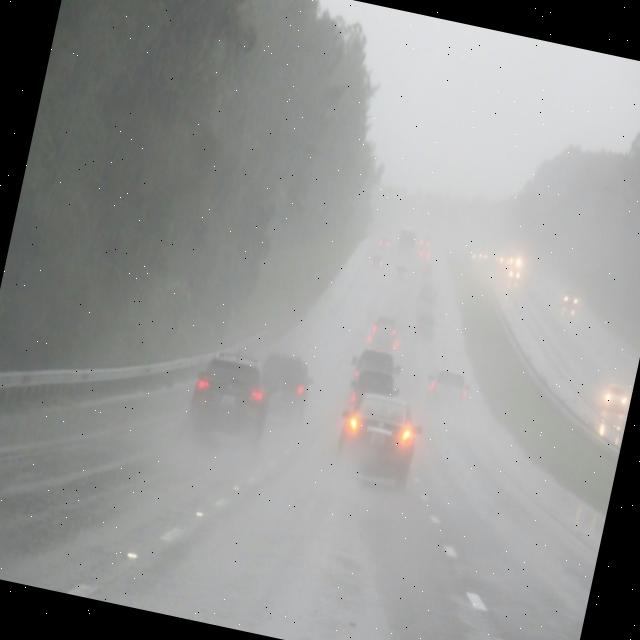car: (332, 383, 428, 492), (184, 346, 278, 446), (256, 345, 320, 423), (424, 362, 474, 412), (348, 346, 403, 386), (410, 306, 444, 343), (602, 383, 630, 412), (370, 314, 400, 338), (560, 286, 582, 311)
